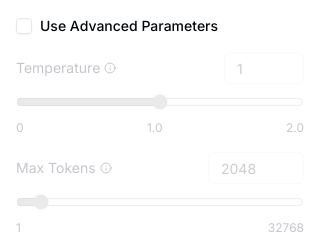
Scenario: AdditionalModelSettings › should enable the sliders when the checkbox is checked
Click the checkbox named "Use Advanced Parameters" at point(24, 26), box [16,18,32,34]
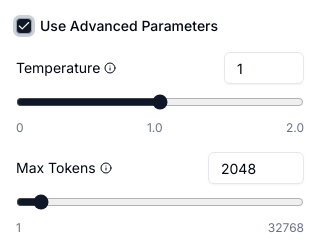
Now the checkbox named "Use Advanced Parameters" is checked, box [16,18,32,34]
Now the slider labelled "Temperature" is enabled, box [16,94,304,110]
Now the slider labelled "Max Tokens" is enabled, box [16,194,304,210]
